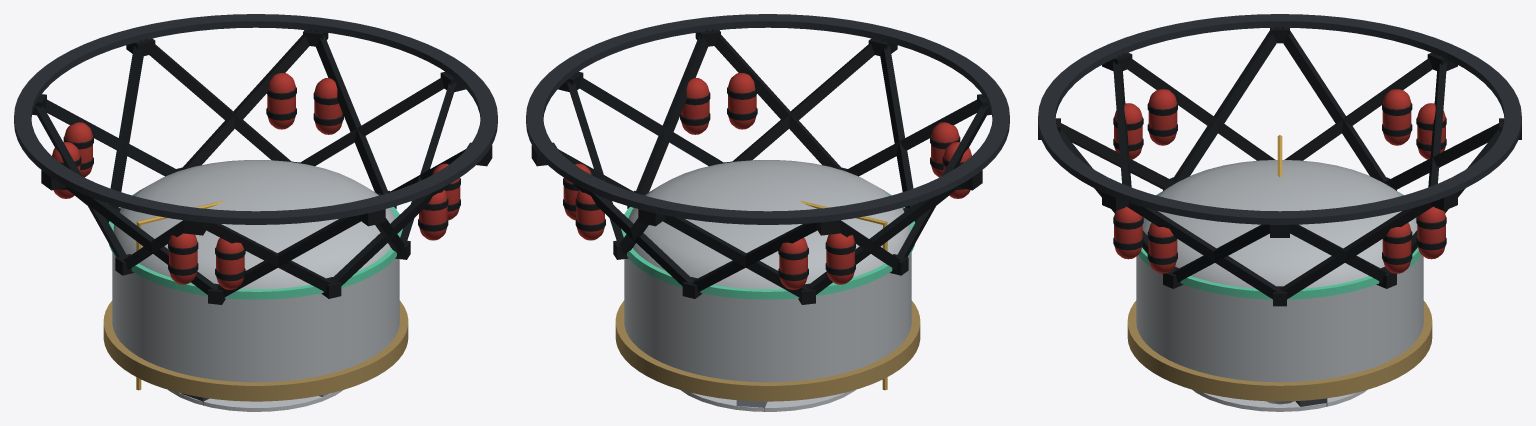
Rendered from dcss_lox.glb.
The picture shows the model from 3 angles, left to right: view 1: azimuth 30°, elevation 25°; view 2: azimuth 150°, elevation 25°; view 3: azimuth 270°, elevation 25°; orthographic projection.
Visible parts, largest first — view 1: frames, shell, slot_bulkhead, slot_pressurisation; view 2: frames, shell, slot_bulkhead, slot_pressurisation; view 3: frames, shell, slot_bulkhead, slot_pressurisation.
Part boxes in pixels (box(x1,y1,x2,y2)): frames: box(14, 14, 497, 411); shell: box(112, 252, 399, 382); slot_bulkhead: box(113, 160, 397, 289); slot_pressurisation: box(52, 73, 460, 289); frames: box(526, 14, 1009, 411); shell: box(624, 252, 911, 382); slot_bulkhead: box(626, 160, 910, 289); slot_pressurisation: box(563, 73, 971, 289); frames: box(1038, 14, 1521, 411); shell: box(1136, 255, 1423, 382); slot_bulkhead: box(1142, 160, 1417, 288); slot_pressurisation: box(1113, 89, 1446, 273).
Size of the model in its own units: 3.38 by 2 by 3.38.
